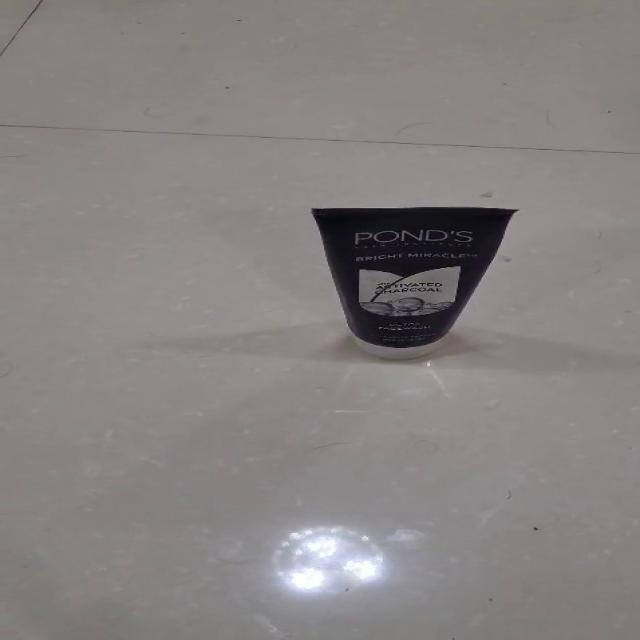plastic: (309, 205, 518, 360)
